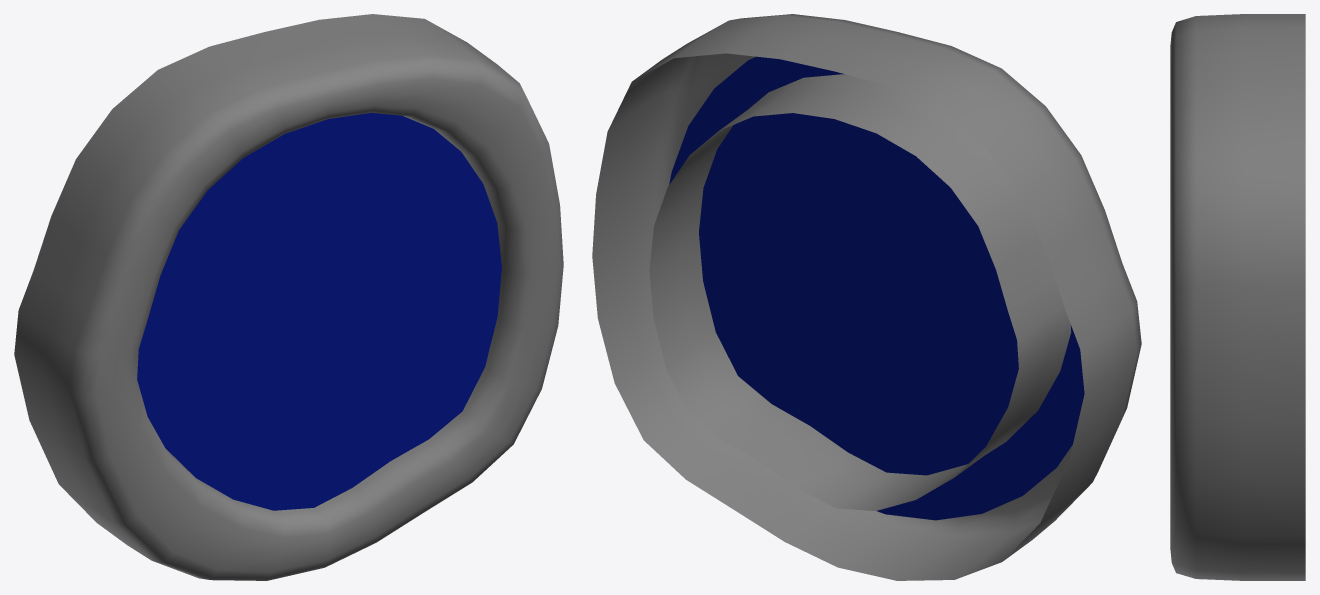
File: SM_Window01.fbx
3 views of the same model, side by side, from view 1: azimuth 30°, elevation 25°; view 2: azimuth 150°, elevation 25°; view 3: azimuth 270°, elevation 25° (orthographic).
Visible parts, largest first — view 1: Window02_Circle004; view 2: Window02_Circle004; view 3: Window02_Circle004.
Part boxes in pixels (x1=…): Window02_Circle004: x1=14, y1=14, x2=563, y2=580; Window02_Circle004: x1=592, y1=14, x2=1141, y2=580; Window02_Circle004: x1=1170, y1=14, x2=1305, y2=580.
Size of the model in its own units: 87.27 by 83.89 by 20.44.
